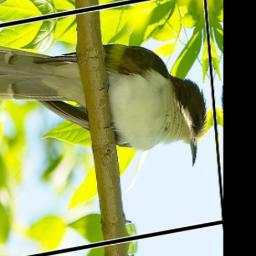Cuckoo: (0, 1, 211, 209)
